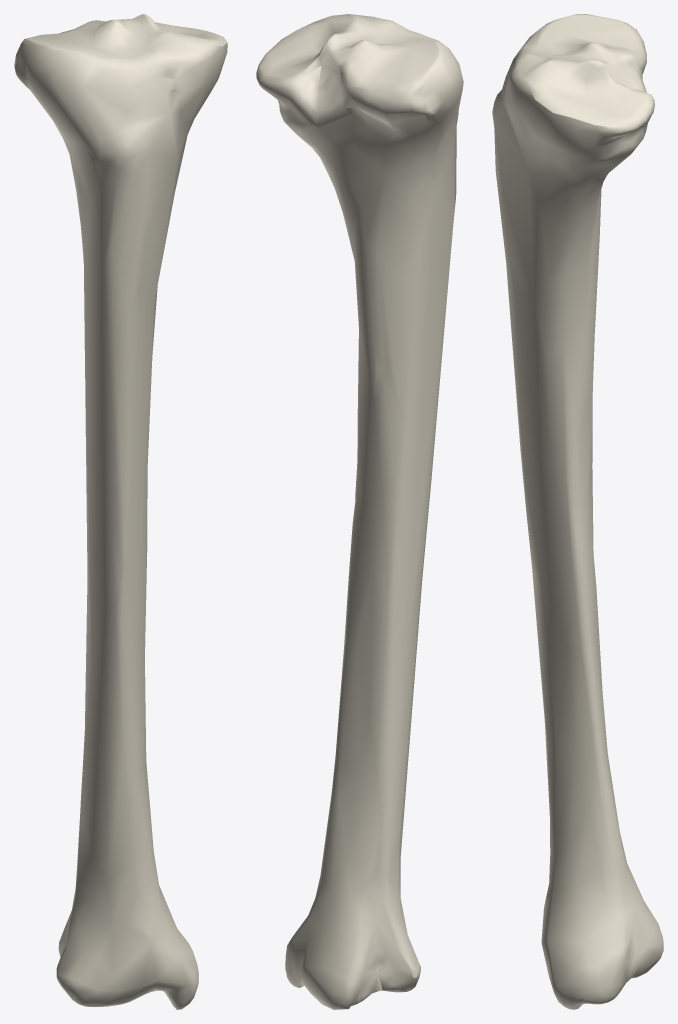
File: fma24477_fj3387.glb
The picture shows the model from 3 angles, left to right: view 1: azimuth 30°, elevation 25°; view 2: azimuth 150°, elevation 25°; view 3: azimuth 270°, elevation 25°; orthographic projection. The views are drawn at different scales.
Parts seen in each view (by area): view 1: FMA24477_FJ3387; view 2: FMA24477_FJ3387; view 3: FMA24477_FJ3387.
Part boxes in pixels (x1,y1,x2,y2): FMA24477_FJ3387: [14, 14, 227, 1009]; FMA24477_FJ3387: [256, 14, 463, 1009]; FMA24477_FJ3387: [492, 14, 663, 1009].
Size of the model in its own units: 0.0741 by 0.38 by 0.0628.
